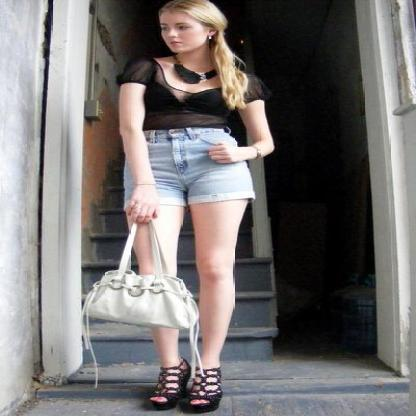bag: (81, 224, 198, 340)
shirt: (116, 57, 263, 132)
shoe: (138, 358, 222, 413)
shorts: (144, 127, 254, 206)
